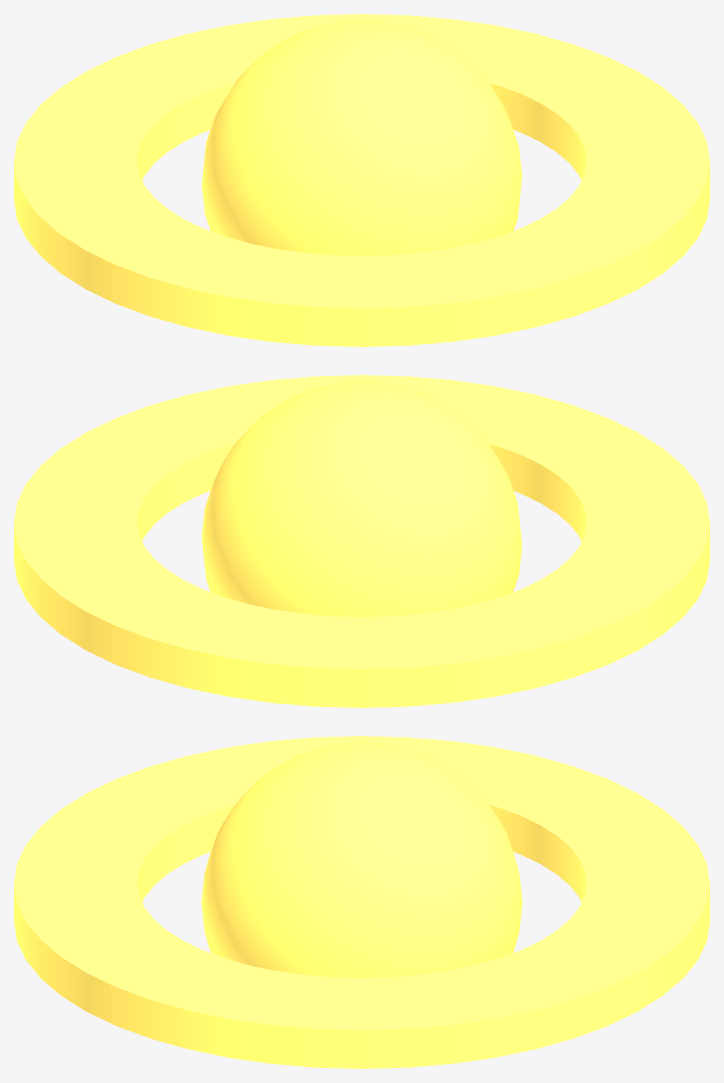
Rendered from item-6-1.glb.
The picture shows the model from 3 angles, top to bottom: view 1: azimuth 30°, elevation 25°; view 2: azimuth 150°, elevation 25°; view 3: azimuth 270°, elevation 25°; orthographic projection.
Parts seen in each view (by area): view 1: plat, planet; view 2: plat, planet; view 3: plat, planet.
Boxes of the visible parts, left/top/right/bottom form: plat: left=14, top=14, right=709, bottom=346; planet: left=202, top=20, right=521, bottom=255; plat: left=14, top=375, right=709, bottom=707; planet: left=202, top=381, right=521, bottom=616; plat: left=14, top=736, right=709, bottom=1068; planet: left=201, top=742, right=522, bottom=977.
Bounding box in the file's own units: 1.3 × 0.6 × 1.3.
